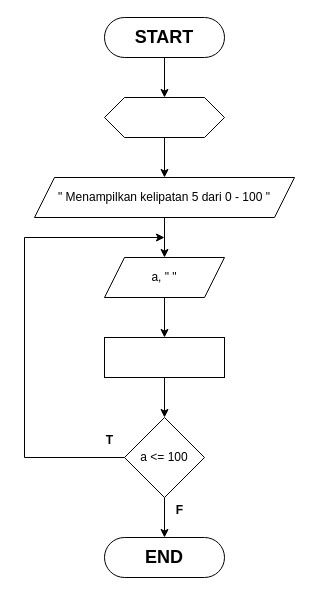
Image size: 312x595. Some labels were removed from this diagram. The box of each missing label's shape, as (x1, y1, x2, y2) in pixels:
a = 0: (104, 96, 224, 138)
a ß a + 5: (104, 336, 224, 378)
